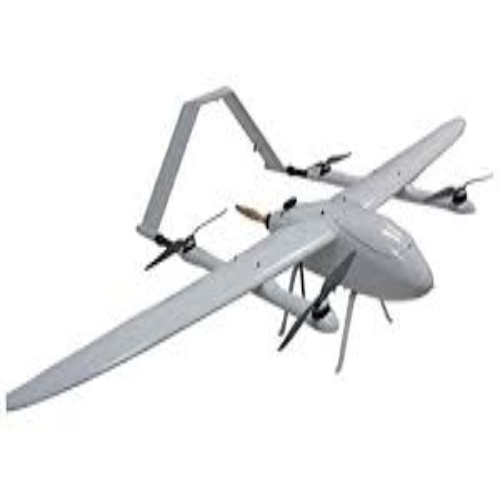uav535: (4, 85, 494, 420)
